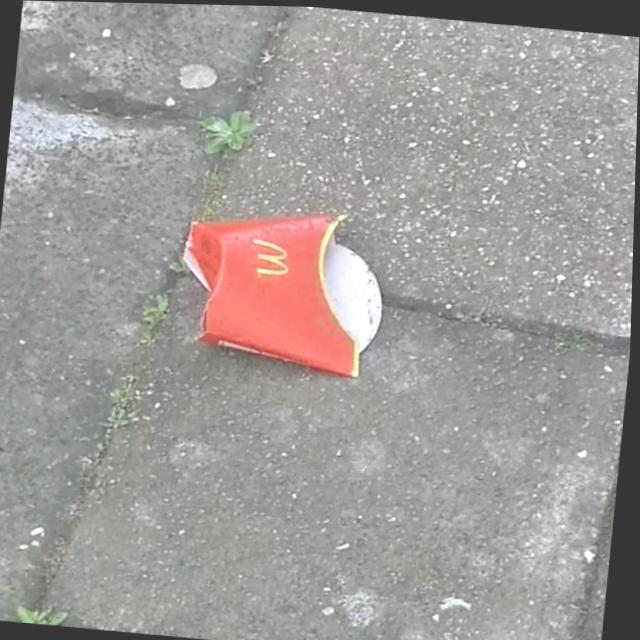Paper: (171, 195, 393, 378)
